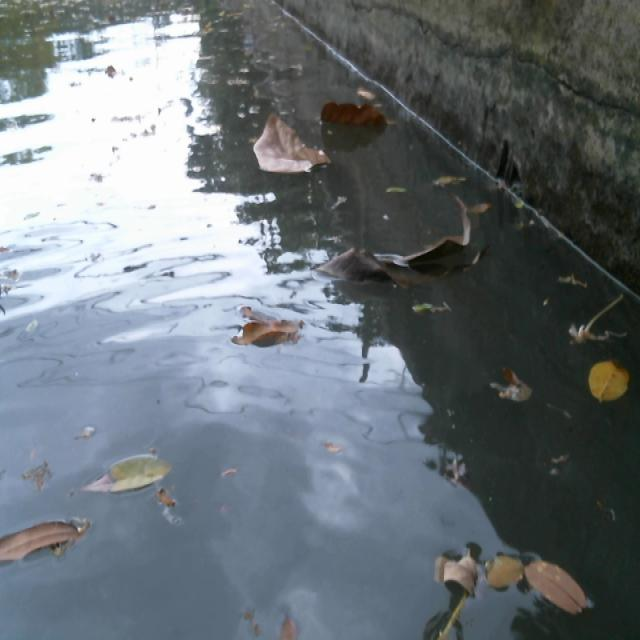Big-leaf: (303, 204, 481, 297), (253, 110, 341, 191), (239, 307, 322, 373), (315, 99, 401, 141)
Small-leaf: (513, 550, 607, 633), (85, 438, 188, 501), (0, 510, 99, 569), (491, 364, 557, 428), (587, 354, 640, 413), (487, 544, 534, 591), (272, 605, 318, 640), (399, 289, 462, 313), (147, 486, 179, 527), (552, 263, 600, 289), (436, 169, 467, 190), (358, 75, 383, 101), (383, 182, 416, 201)
